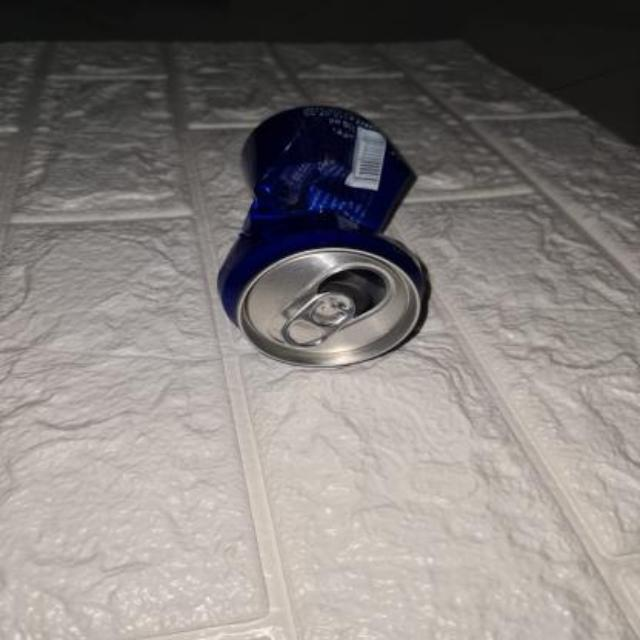metal: (215, 105, 428, 363)
